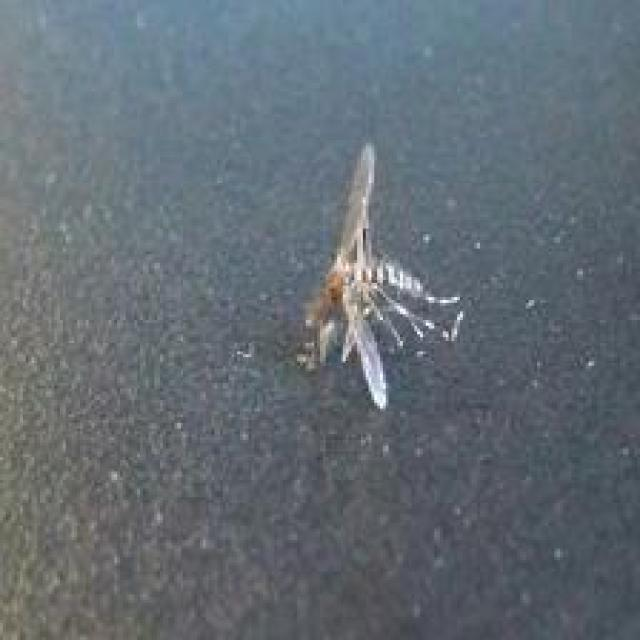Aedes albopictus: (291, 141, 466, 410)
